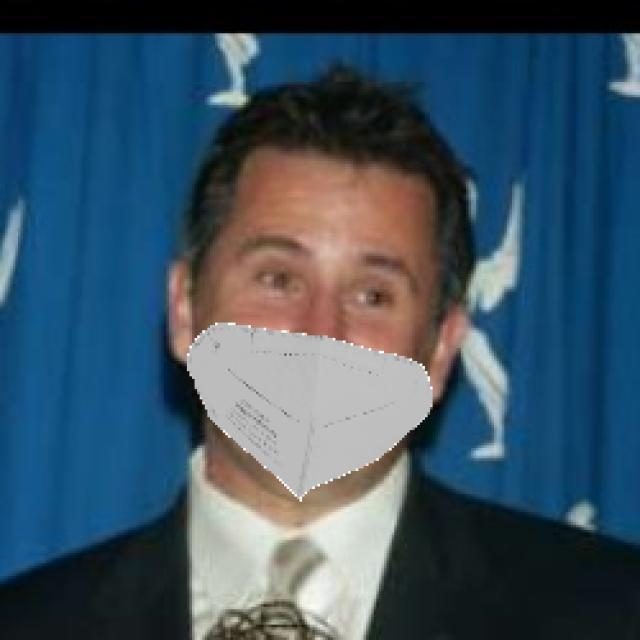kn95: (176, 164, 449, 496)
